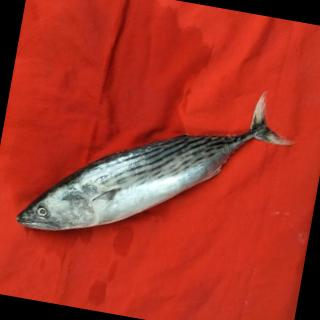Ikan: (6, 47, 309, 294)
